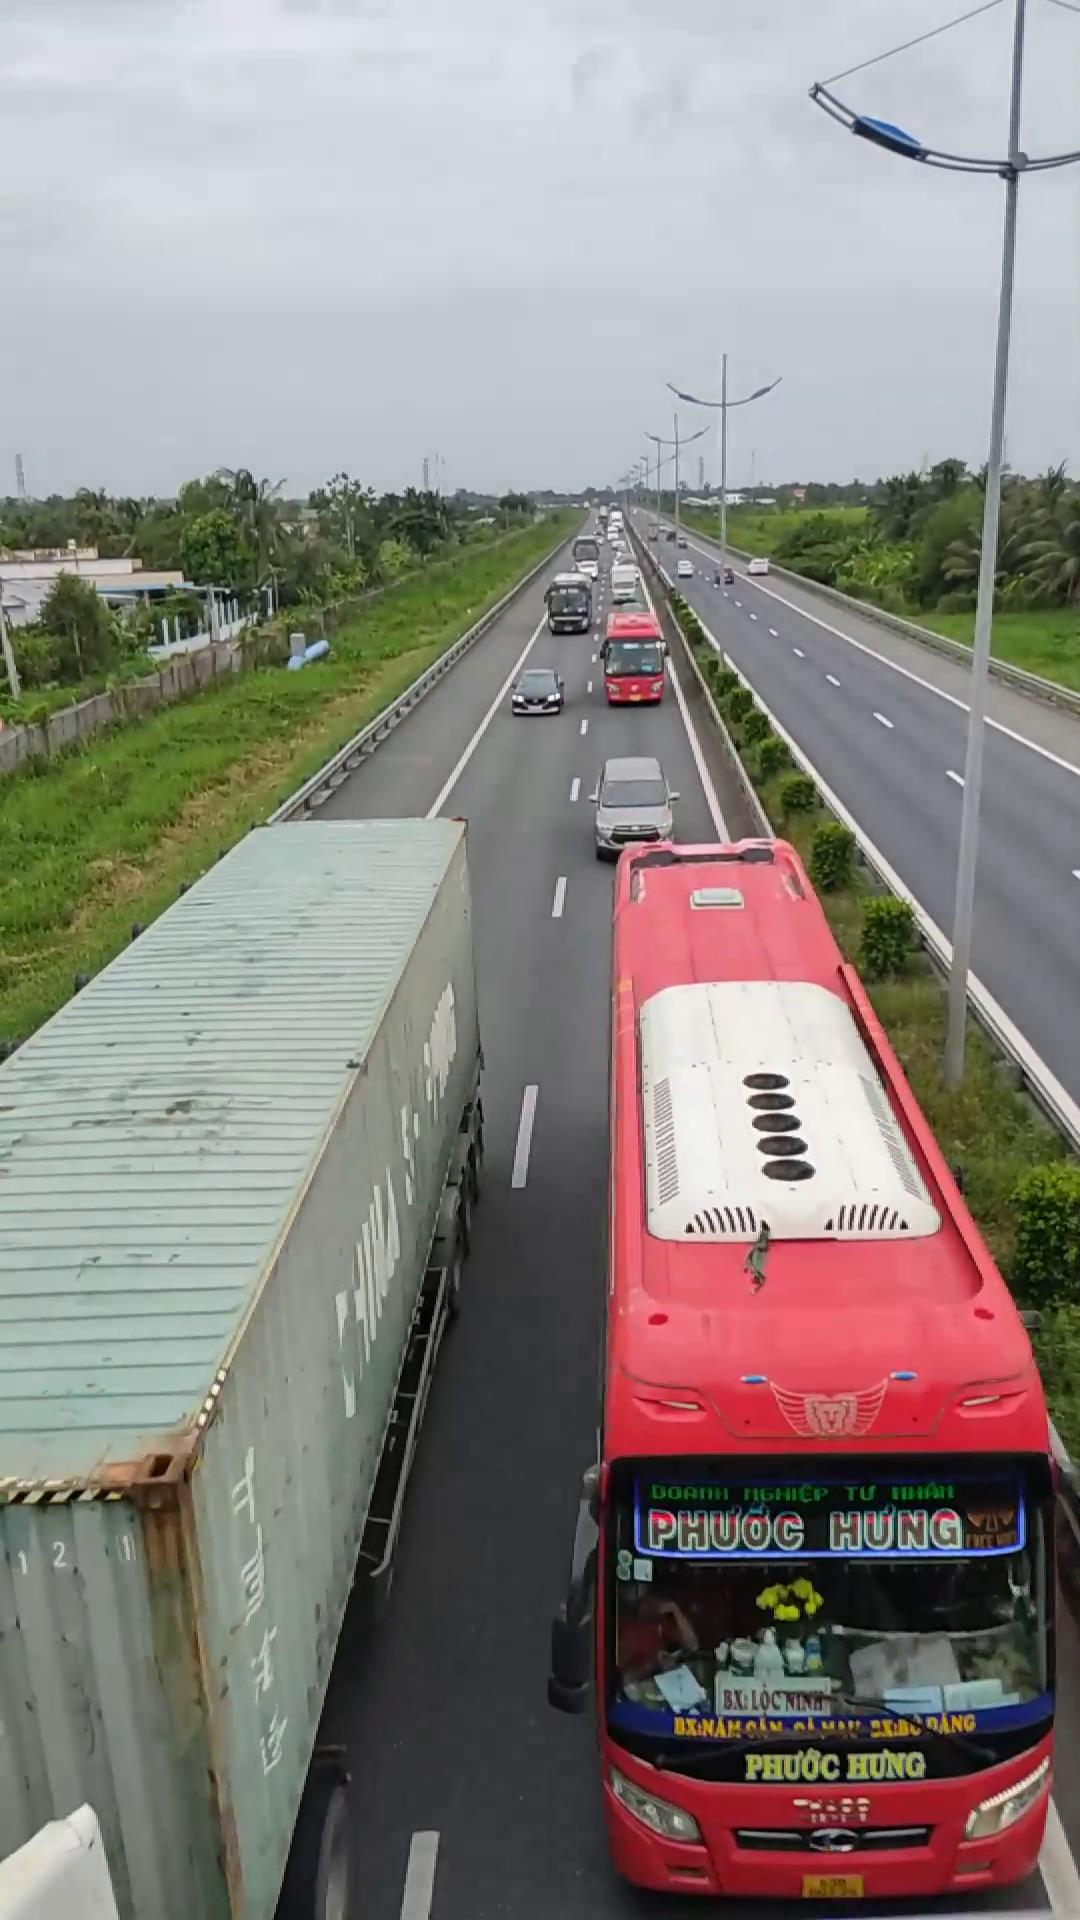bus: (596, 830, 1072, 1920)
car: (587, 755, 678, 858)
container: (0, 813, 477, 1918)
